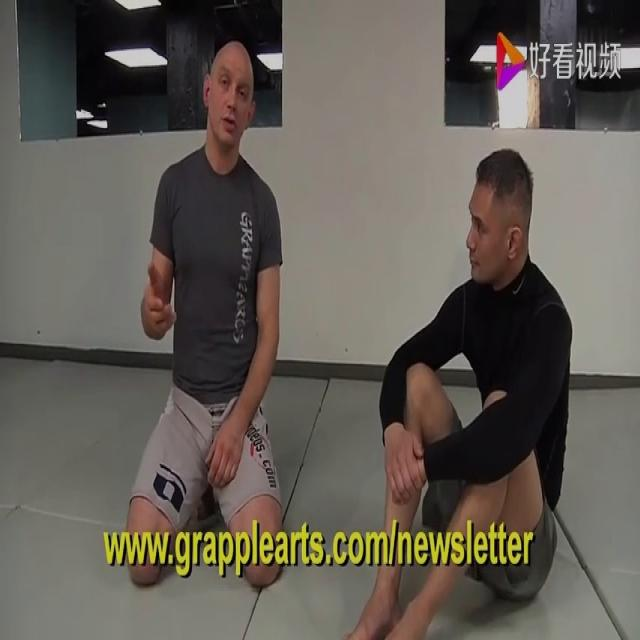non-fight: (364, 142, 581, 638), (124, 32, 286, 639)
